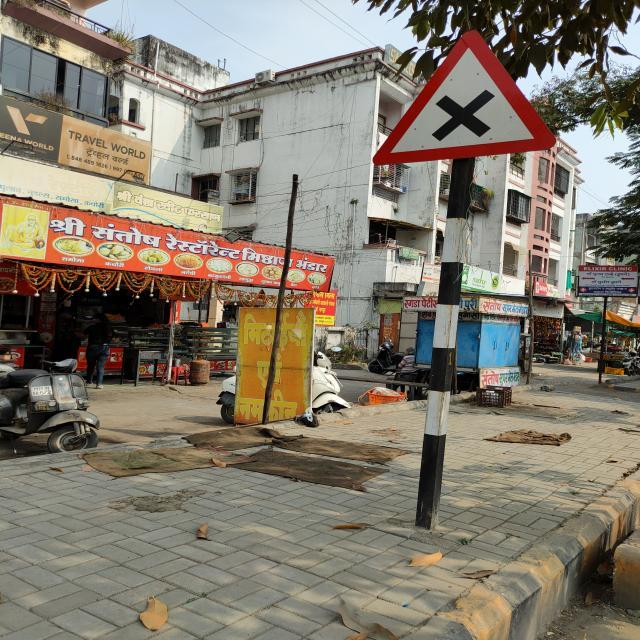cross road: (370, 28, 562, 170)
